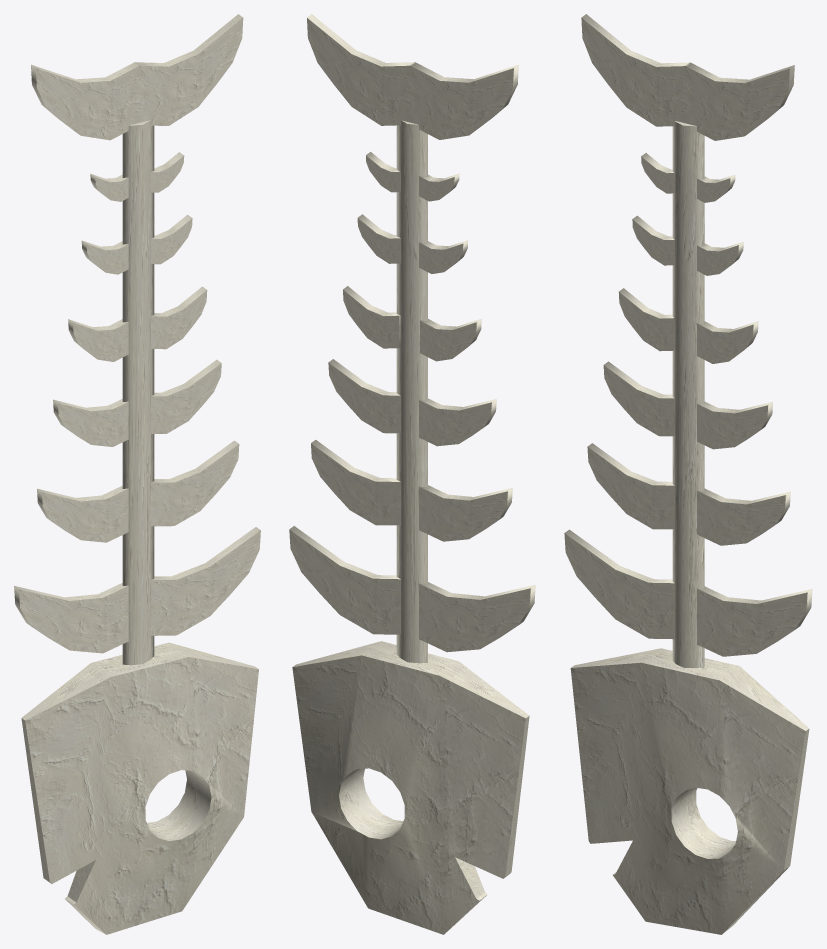
Rendered from FishBone.fbx.
3 views of the same model, side by side, from view 1: azimuth 30°, elevation 25°; view 2: azimuth 150°, elevation 25°; view 3: azimuth 330°, elevation 25° (orthographic).
Parts seen in each view (by area): view 1: Box001, Box003, Box002; view 2: Box001, Box003, Box002; view 3: Box001, Box003, Box002.
Boxes of the visible parts, box(x1,y1,x2,y2) form: Box001: box(21, 642, 258, 934); Box003: box(14, 14, 260, 653); Box002: box(122, 120, 154, 665); Box001: box(292, 641, 529, 934); Box003: box(289, 14, 535, 652); Box002: box(396, 120, 427, 663); Box001: box(570, 648, 809, 934); Box003: box(564, 14, 812, 656); Box002: box(672, 121, 704, 667).
Bounding box in the file's own units: 13.73 × 47.86 × 2.4.
Materials: 1 (1 with a texture image).
